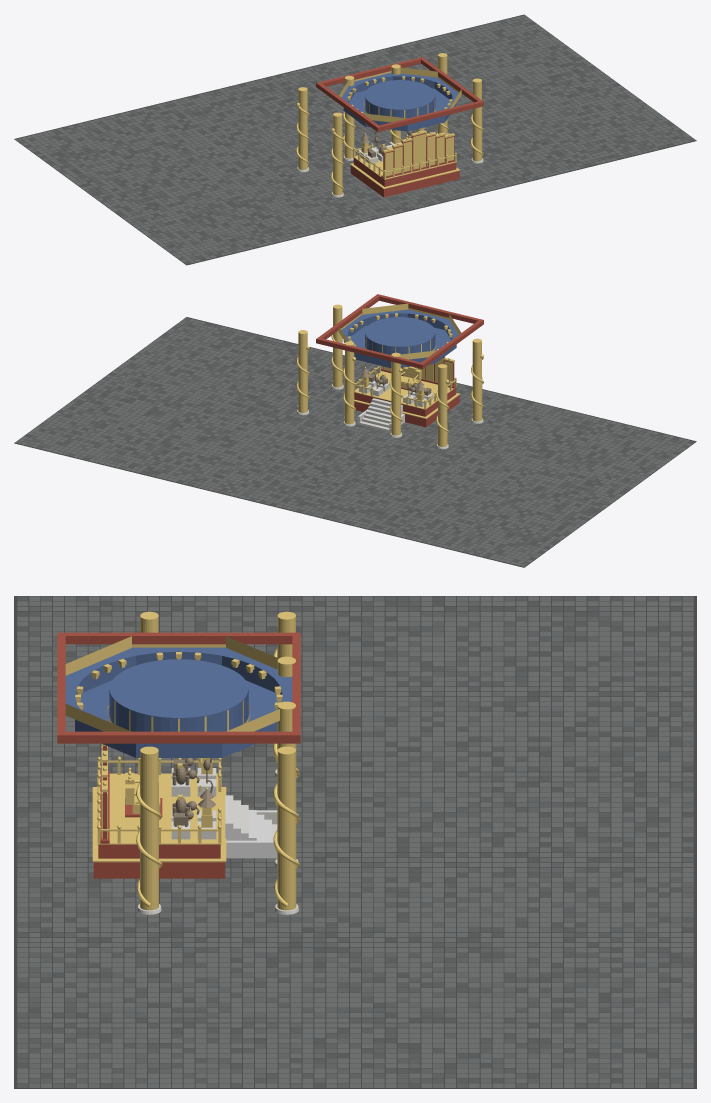
File: taihe.glb
3 renders of one model, top to bottom at view 1: azimuth 30°, elevation 25°; view 2: azimuth 150°, elevation 25°; view 3: azimuth 270°, elevation 25°, orthographic. The views are drawn at different scales.
Visible parts, largest first — view 1: floor_tiles, floor_base, merged_gold_lacquer, merged_red_lacquer, merged_caisson_blue; view 2: floor_tiles, floor_base, merged_gold_lacquer, merged_caisson_blue, merged_red_lacquer, merged_white_marble, merged_bronze; view 3: floor_tiles, floor_base, merged_gold_lacquer, merged_caisson_blue, merged_red_lacquer, merged_white_marble, merged_bronze, COL_step_side_1.
Boxes of the visible parts, bbox=[...] form: floor_tiles: bbox=[15, 15, 694, 264]; floor_base: bbox=[14, 14, 696, 265]; merged_gold_lacquer: bbox=[296, 53, 483, 195]; merged_red_lacquer: bbox=[316, 57, 483, 197]; merged_caisson_blue: bbox=[341, 73, 458, 131]; floor_tiles: bbox=[16, 317, 694, 566]; floor_base: bbox=[14, 317, 696, 567]; merged_gold_lacquer: bbox=[296, 303, 483, 446]; merged_caisson_blue: bbox=[341, 309, 458, 367]; merged_red_lacquer: bbox=[316, 294, 483, 427]; merged_white_marble: bbox=[358, 380, 433, 431]; merged_bronze: bbox=[361, 368, 431, 396]; floor_tiles: bbox=[17, 596, 693, 1087]; floor_base: bbox=[14, 596, 696, 1088]; merged_gold_lacquer: bbox=[65, 611, 299, 910]; merged_caisson_blue: bbox=[65, 647, 292, 757]; merged_red_lacquer: bbox=[57, 632, 300, 878]; merged_white_marble: bbox=[171, 768, 277, 840]; merged_bronze: bbox=[172, 758, 215, 826]; COL_step_side_1: bbox=[226, 840, 277, 858].
Bounding box in the file's own units: 62.8 × 9.52 × 36.8.
